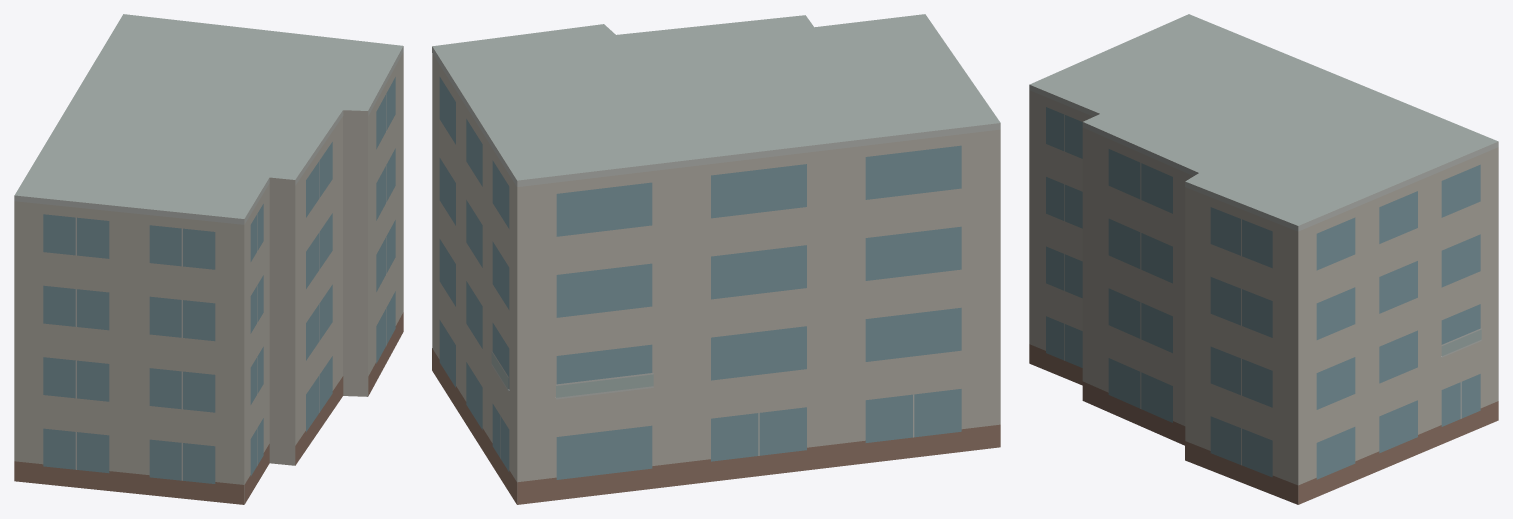
File: survey-upis-32979111.glb
3 renders of one model, left to right at view 1: azimuth 30°, elevation 25°; view 2: azimuth 150°, elevation 25°; view 3: azimuth 270°, elevation 25°, orthographic. The views are drawn at different scales.
Parts seen in each view (by area): view 1: survey-upis-32979111.tmp; view 2: survey-upis-32979111.tmp; view 3: survey-upis-32979111.tmp.
Boxes of the visible parts, x1=… form: survey-upis-32979111.tmp: x1=14, y1=14, x2=403, y2=504; survey-upis-32979111.tmp: x1=432, y1=14, x2=1000, y2=504; survey-upis-32979111.tmp: x1=1029, y1=14, x2=1498, y2=504.
Bounding box in the file's own units: 19.73 × 12.1 × 18.46.
